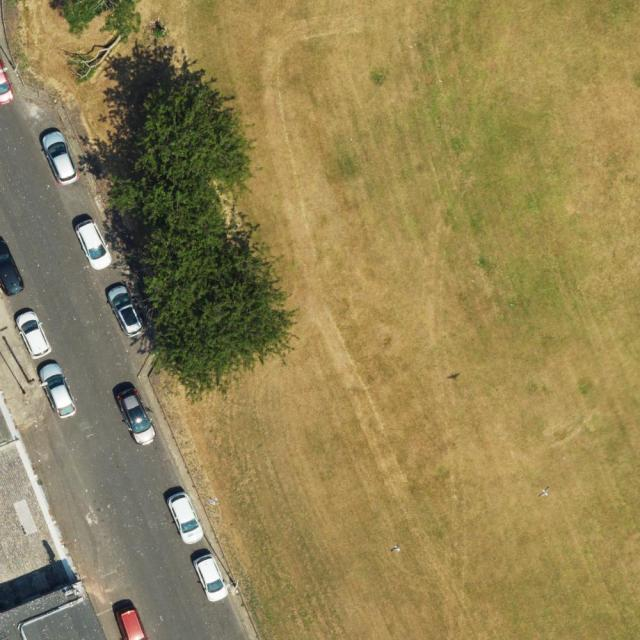roof: (0, 392, 109, 640)
